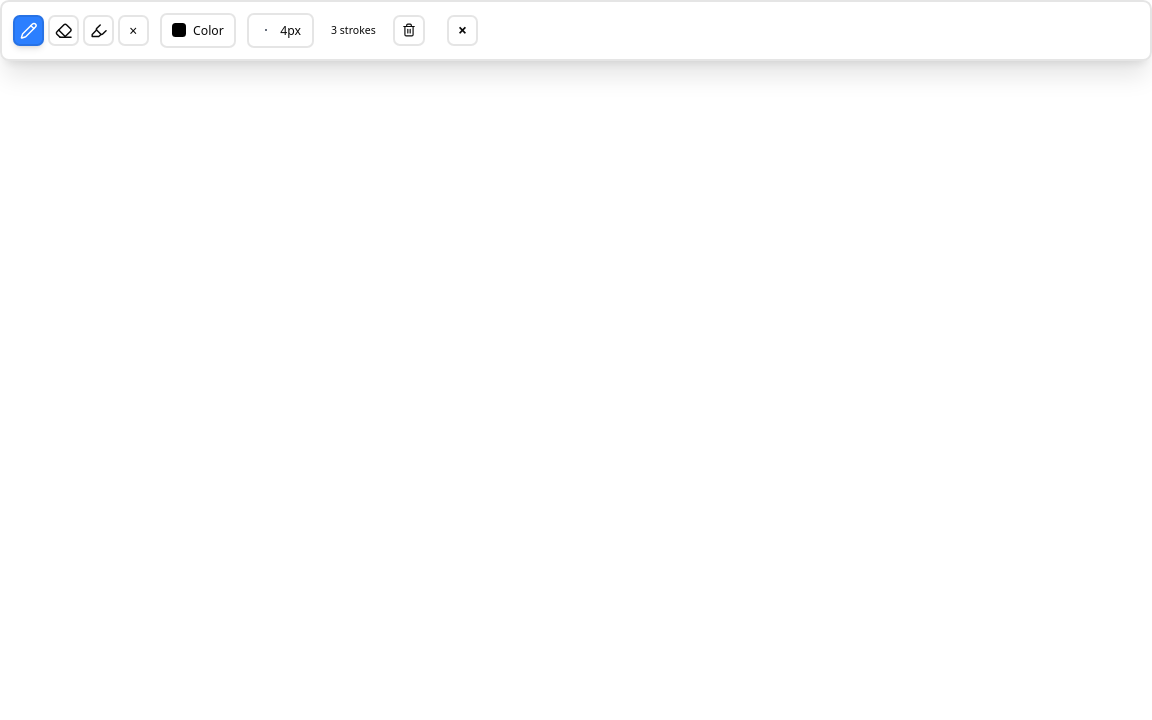
Test: DrawingToolbar Component › should show clear confirmation dialog
Step 1. Click the button named "clear all" → coordinates (409, 30), box x1=393 y1=14 x2=425 y2=46
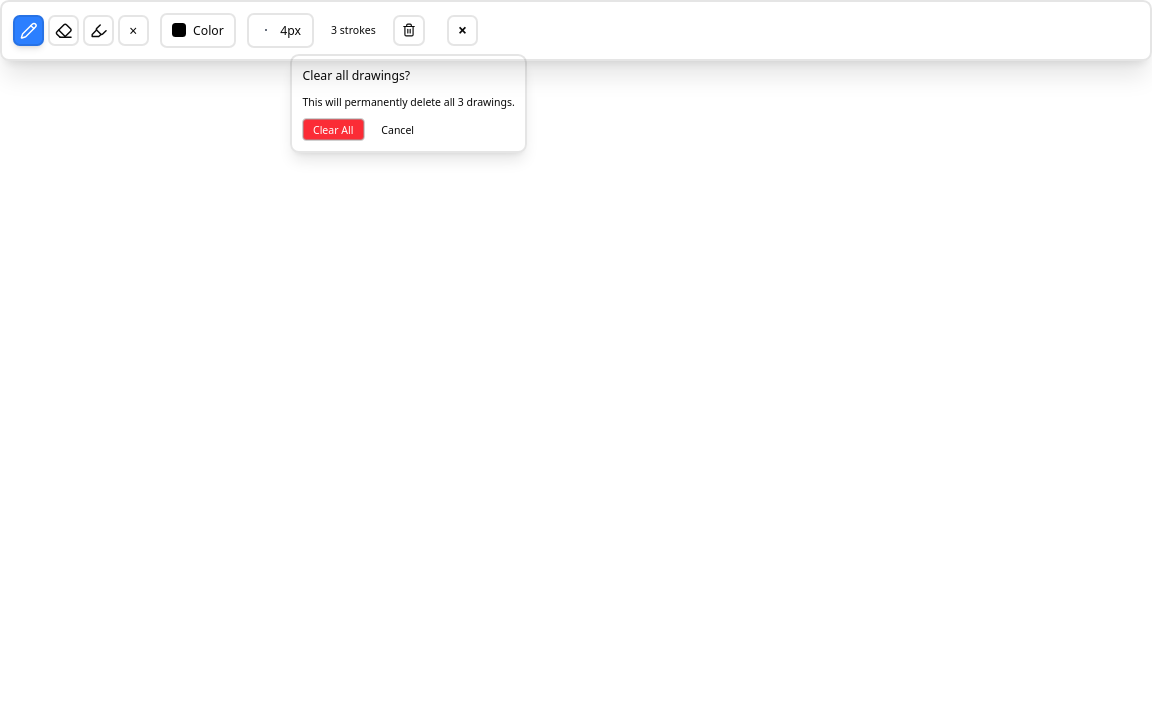
Expected: the text "Clear all drawings?" is shown, x1=302 y1=66 x2=410 y2=84
